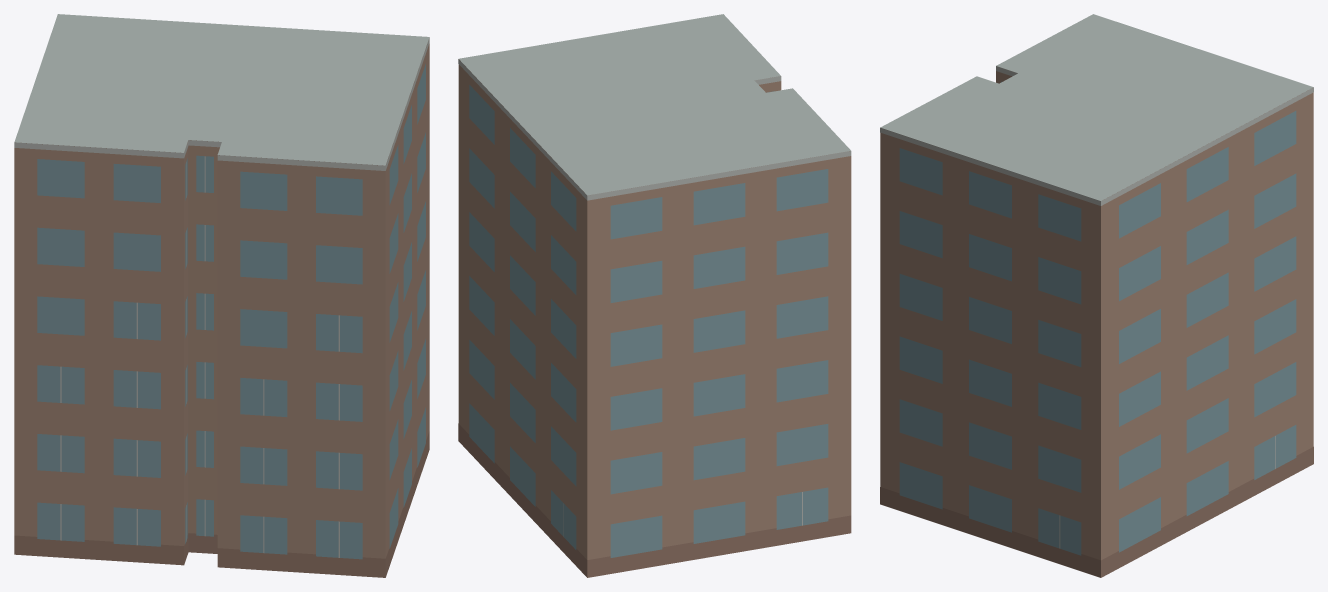
The model's file is survey-upis-32669865.glb.
The picture shows the model from 3 angles, left to right: view 1: azimuth 30°, elevation 25°; view 2: azimuth 150°, elevation 25°; view 3: azimuth 270°, elevation 25°; orthographic projection. The views are drawn at different scales.
Visible parts, largest first — view 1: survey-upis-32669865.tmp; view 2: survey-upis-32669865.tmp; view 3: survey-upis-32669865.tmp.
Boxes of the visible parts, bbox=[...] form: survey-upis-32669865.tmp: bbox=[14, 14, 429, 577]; survey-upis-32669865.tmp: bbox=[458, 14, 851, 577]; survey-upis-32669865.tmp: bbox=[880, 14, 1313, 577].
Bounding box in the file's own units: 19.49 × 18.3 × 19.1.
